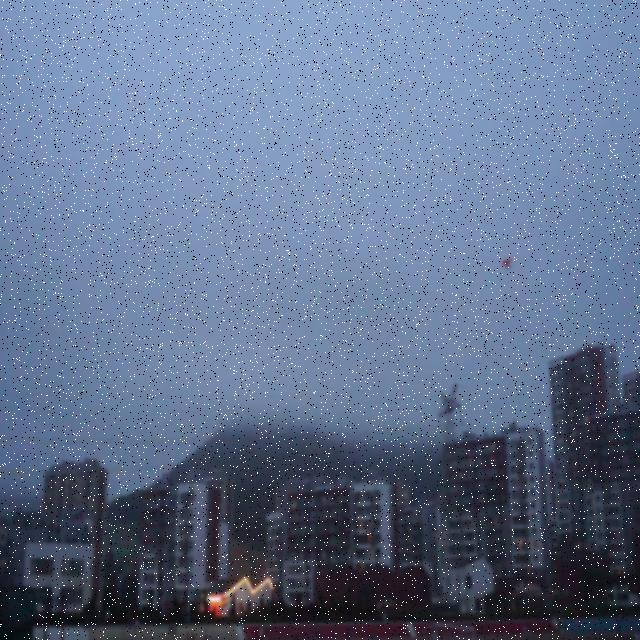UAV: (499, 257, 516, 270)
